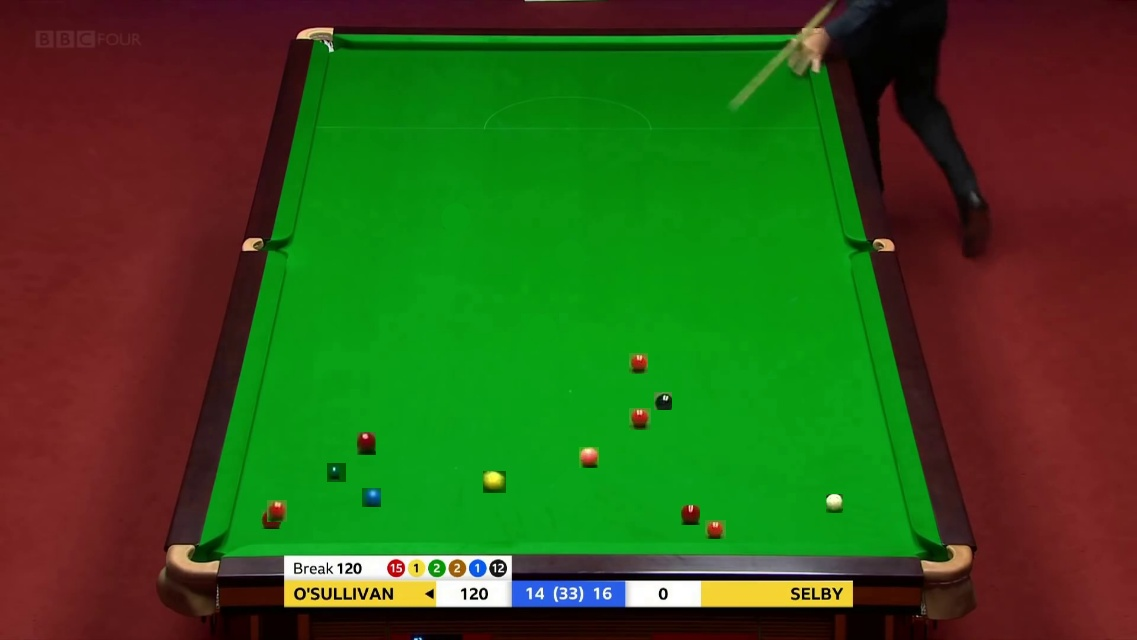black: (654, 392, 672, 410)
blue: (362, 488, 381, 507)
brown: (357, 432, 380, 451)
green: (327, 463, 346, 482)
pink: (579, 447, 600, 467)
red: (629, 408, 651, 430), (267, 500, 289, 520), (261, 509, 281, 529), (705, 520, 724, 541), (629, 353, 650, 372), (681, 505, 701, 524)
white: (826, 494, 845, 511)
yellow: (483, 471, 505, 494)
